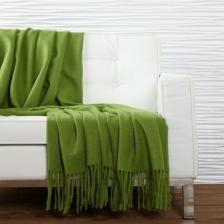green: (1, 28, 170, 214)
